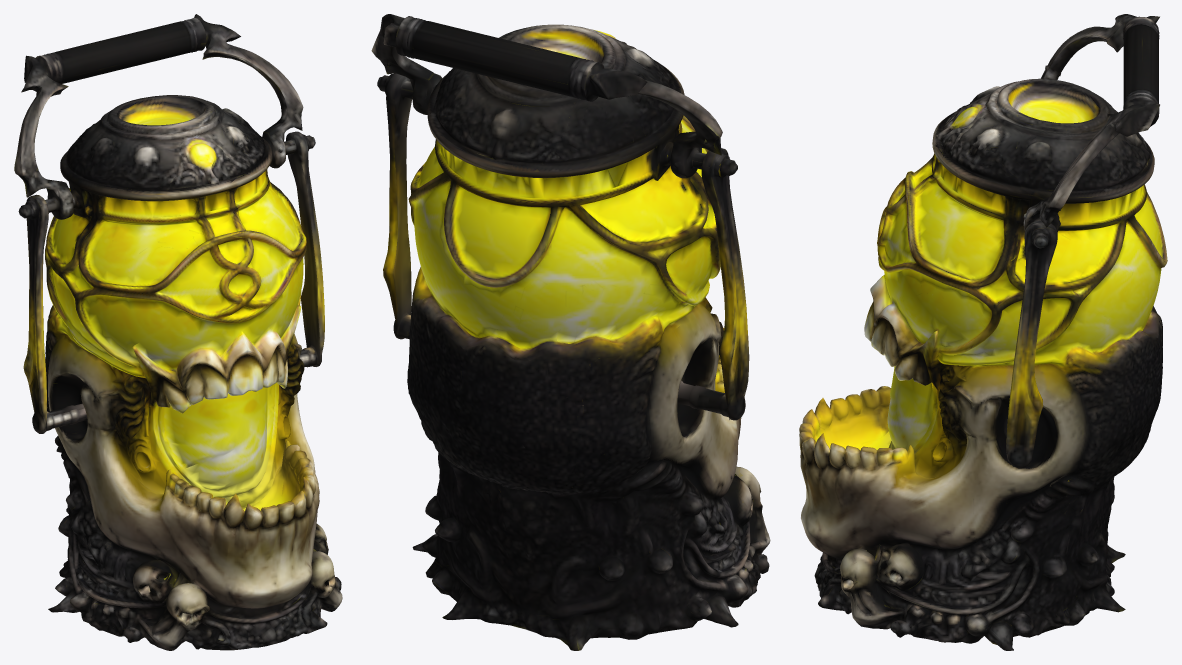
File: kuning.glb
The picture shows the model from 3 angles, left to right: view 1: azimuth 30°, elevation 25°; view 2: azimuth 150°, elevation 25°; view 3: azimuth 270°, elevation 25°; orthographic projection. The views are drawn at different scales.
Visible parts, largest first — view 1: material; view 2: material; view 3: material.
Part boxes in pixels (x1,y1,x2,y2): material: (14,14,342,650); material: (371,14,770,650); material: (799,14,1167,650).
Bounding box in the file's own units: 0.6103 × 0.9884 × 0.6257.
1 material, 1 textured.
